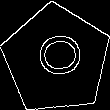O_W: (30, 35, 83, 83)
